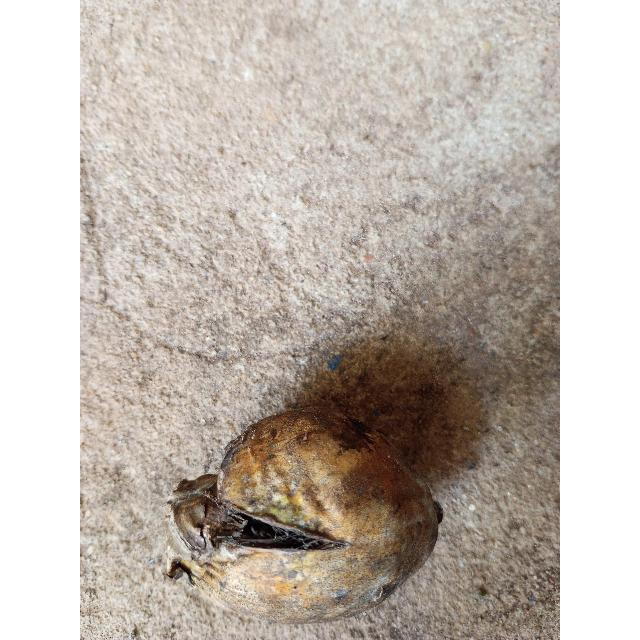damaged: (167, 402, 474, 624)
